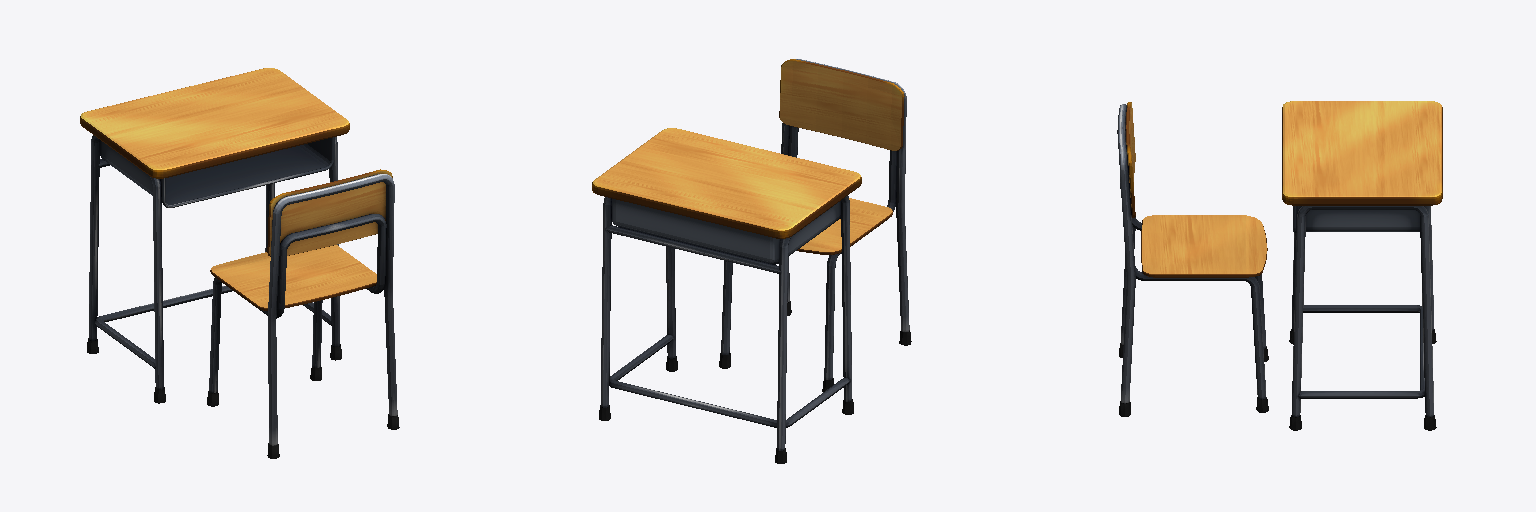
3 views of the same model, side by side, from view 1: azimuth 30°, elevation 25°; view 2: azimuth 150°, elevation 25°; view 3: azimuth 270°, elevation 25° (orthographic).
Visible parts, largest first — view 1: japanschooldesk, japanschoolchair; view 2: japanschooldesk, japanschoolchair; view 3: japanschooldesk, japanschoolchair.
Part boxes in pixels (x1,y1,x2,y2): japanschooldesk: (80, 68, 349, 403); japanschoolchair: (207, 169, 399, 458); japanschooldesk: (592, 128, 861, 463); japanschoolchair: (719, 59, 911, 391); japanschooldesk: (1282, 101, 1442, 430); japanschoolchair: (1117, 102, 1268, 416).
Size of the model in its own units: 0.65 by 0.8085 by 0.9212.
Materials: 1 (1 with a texture image).